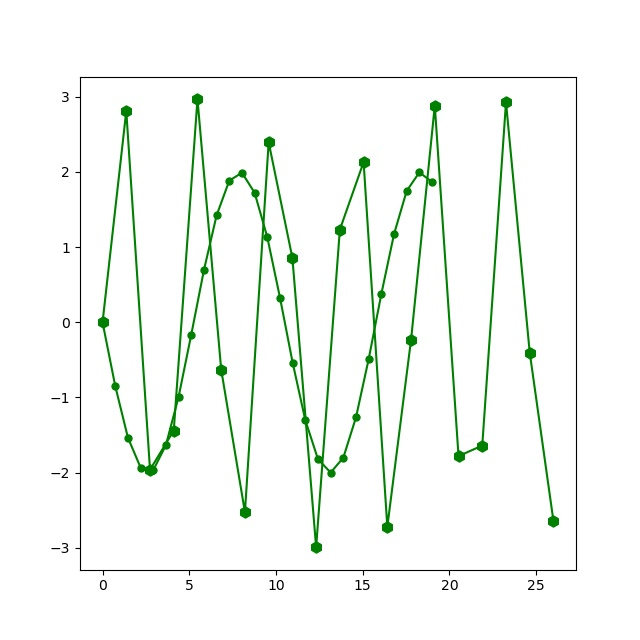circle: (98, 318, 108, 328), (111, 381, 121, 391), (123, 433, 133, 443), (136, 463, 146, 473), (149, 466, 159, 476), (161, 441, 171, 451), (174, 392, 184, 402), (187, 330, 197, 340), (199, 266, 209, 276), (212, 211, 222, 221), (225, 176, 235, 186), (237, 168, 247, 178), (250, 188, 260, 198), (263, 233, 273, 243), (275, 293, 285, 303), (288, 358, 298, 368), (301, 416, 311, 426), (313, 455, 323, 465), (326, 468, 336, 478), (339, 453, 349, 463), (352, 413, 362, 423), (364, 355, 374, 365), (377, 289, 387, 299), (390, 230, 400, 240), (402, 186, 412, 196), (415, 168, 425, 178), (428, 178, 438, 188)
hexagon1: (97, 316, 110, 329), (120, 105, 133, 118), (144, 464, 157, 477), (168, 425, 181, 438), (191, 93, 204, 106), (215, 364, 228, 377), (239, 506, 252, 519), (263, 136, 276, 149), (286, 252, 299, 265), (310, 541, 323, 554), (334, 224, 347, 237), (358, 156, 371, 169), (381, 521, 394, 534), (405, 334, 418, 347), (429, 100, 442, 113), (453, 450, 466, 463), (476, 440, 489, 453), (500, 96, 513, 109), (524, 347, 537, 360), (547, 515, 560, 528)
